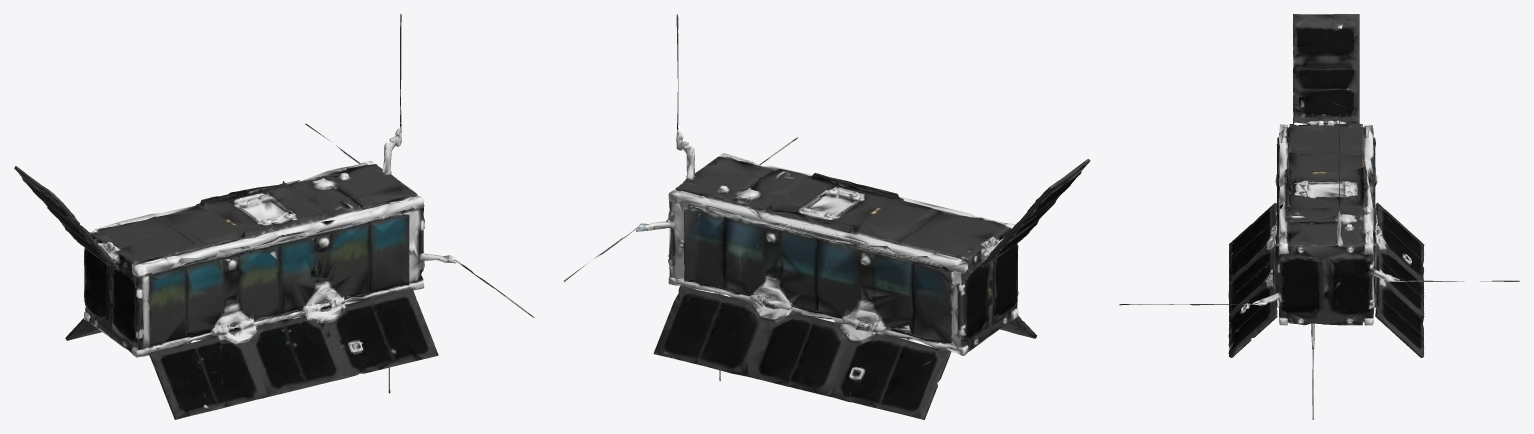
File: ukube-low.glb
The picture shows the model from 3 angles, left to right: view 1: azimuth 30°, elevation 25°; view 2: azimuth 150°, elevation 25°; view 3: azimuth 270°, elevation 25°; orthographic projection. The views are drawn at different scales.
Bounding box in the file's own units: 1.85 × 1.66 × 1.9.
Materials: 1 (1 with a texture image).
